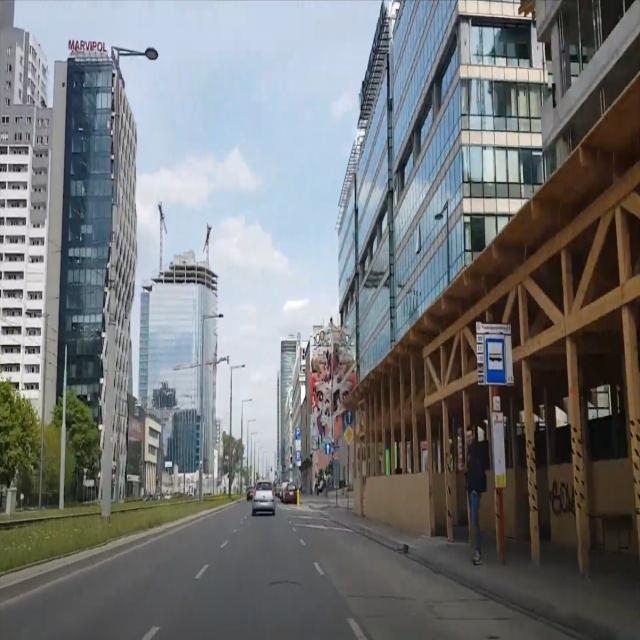Droga z pierwszenstwem: (343, 424, 355, 446)
